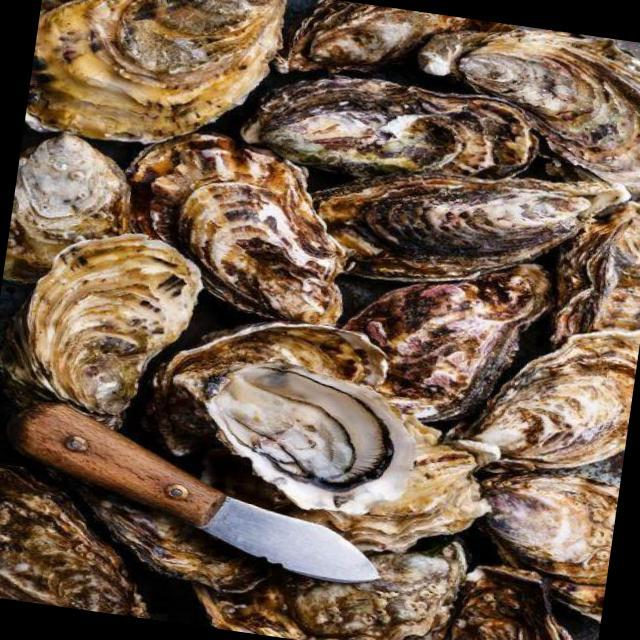Oyster- Indeterminate: (315, 138, 637, 313), (101, 120, 368, 331), (0, 218, 212, 442), (325, 234, 553, 436), (225, 61, 541, 205), (24, 0, 292, 159), (439, 16, 640, 201), (146, 300, 400, 439), (194, 523, 466, 640), (461, 305, 640, 477), (0, 463, 169, 619), (469, 459, 621, 625), (3, 127, 143, 295), (275, 0, 471, 94), (435, 558, 593, 640)
Oyster-Closed: (546, 190, 640, 353)
Oyster-Open: (181, 352, 437, 531)
